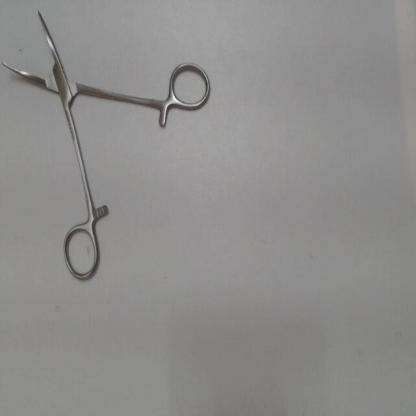Crile Artery Forceps: (1, 5, 214, 290)
